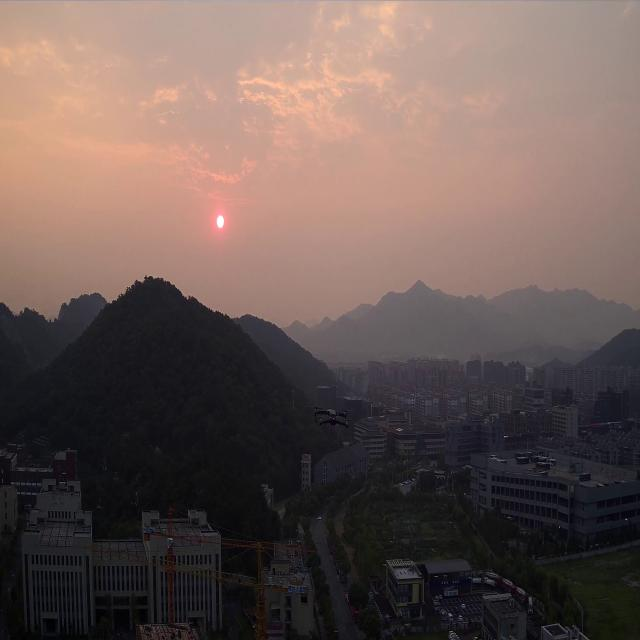UAV: (310, 405, 352, 429)
